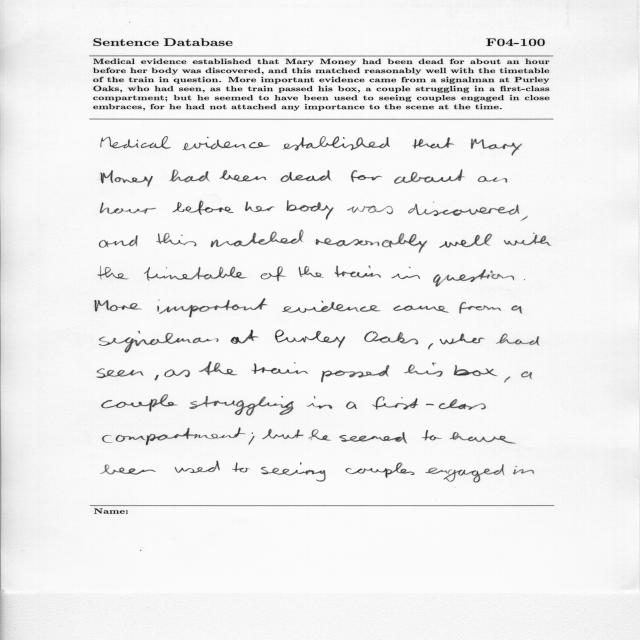word: (99, 331, 219, 353), (103, 428, 246, 445), (316, 233, 427, 253), (157, 299, 268, 318), (189, 396, 294, 416), (372, 396, 486, 410), (211, 230, 304, 247), (408, 202, 519, 216), (283, 137, 390, 151), (433, 269, 514, 287), (144, 267, 247, 281), (426, 465, 504, 483), (261, 462, 326, 482), (102, 395, 178, 412), (282, 300, 380, 313), (275, 330, 345, 348), (321, 365, 389, 382), (182, 137, 270, 150), (346, 462, 415, 478), (394, 169, 465, 184), (101, 136, 171, 149), (287, 201, 334, 220), (101, 170, 153, 187), (172, 201, 234, 215), (471, 139, 522, 156), (439, 233, 492, 248), (365, 331, 419, 345), (340, 432, 407, 443), (449, 432, 516, 443), (251, 362, 308, 374), (100, 202, 156, 214), (504, 232, 551, 246), (281, 170, 331, 182), (404, 362, 443, 377), (95, 300, 142, 312), (496, 333, 539, 346), (220, 170, 266, 182), (335, 266, 381, 278), (101, 465, 156, 475), (175, 461, 220, 473), (169, 170, 210, 183), (156, 233, 196, 246), (412, 137, 454, 149), (459, 302, 501, 314), (440, 334, 485, 345), (100, 235, 138, 248), (199, 362, 237, 375), (454, 365, 498, 376), (97, 368, 143, 378), (347, 206, 393, 215), (262, 429, 303, 439), (98, 266, 129, 279), (231, 330, 259, 344), (261, 267, 287, 282), (394, 306, 449, 313), (351, 170, 382, 182), (391, 267, 420, 279), (307, 396, 332, 409), (245, 202, 275, 212), (299, 266, 324, 278), (308, 429, 331, 441), (164, 370, 190, 378), (478, 176, 507, 183), (422, 430, 442, 440), (513, 466, 534, 475), (232, 463, 250, 473), (511, 306, 522, 314), (521, 372, 532, 380), (249, 432, 255, 445), (346, 402, 357, 409), (505, 376, 511, 383), (520, 216, 528, 221), (429, 343, 434, 350), (155, 375, 159, 381), (524, 279, 525, 280)
